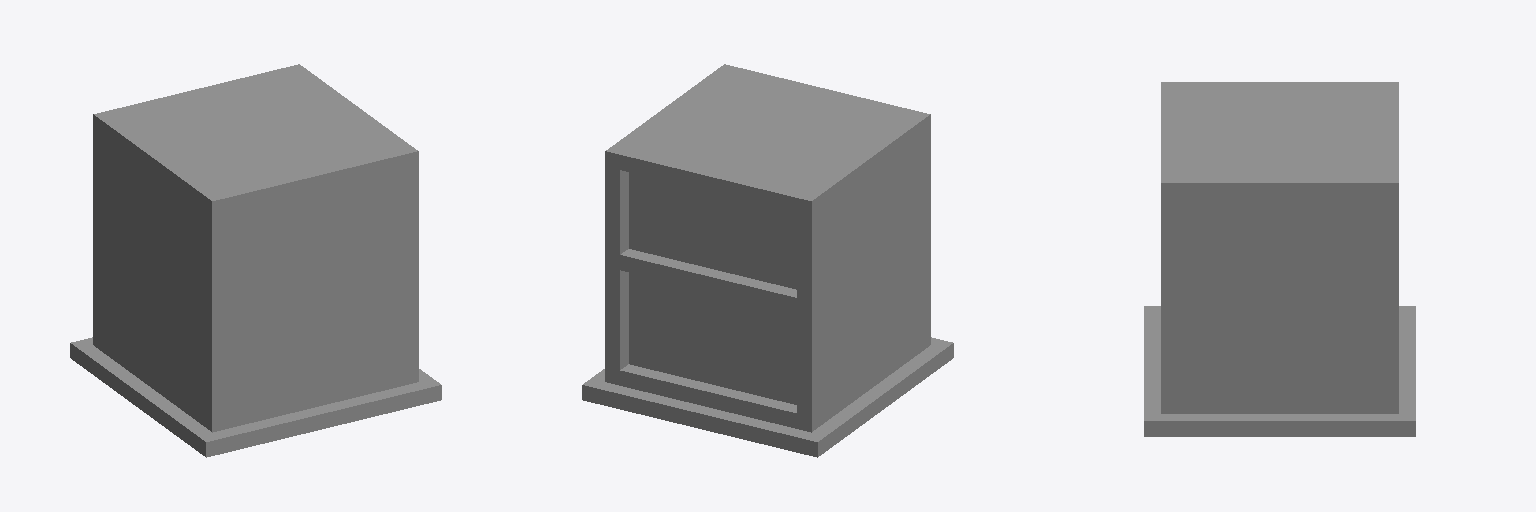
The model's file is fridge.obj.
3 views of the same model, side by side, from view 1: azimuth 30°, elevation 25°; view 2: azimuth 150°, elevation 25°; view 3: azimuth 270°, elevation 25° (orthographic).
Visible parts, largest first — view 1: Cube; view 2: Cube; view 3: Cube.
Part boxes in pixels (left/top/right/bottom): Cube: left=70, top=64, right=441, bottom=457; Cube: left=582, top=64, right=953, bottom=457; Cube: left=1144, top=82, right=1415, bottom=436.
Bounding box in the file's own units: 1 × 1 × 1.